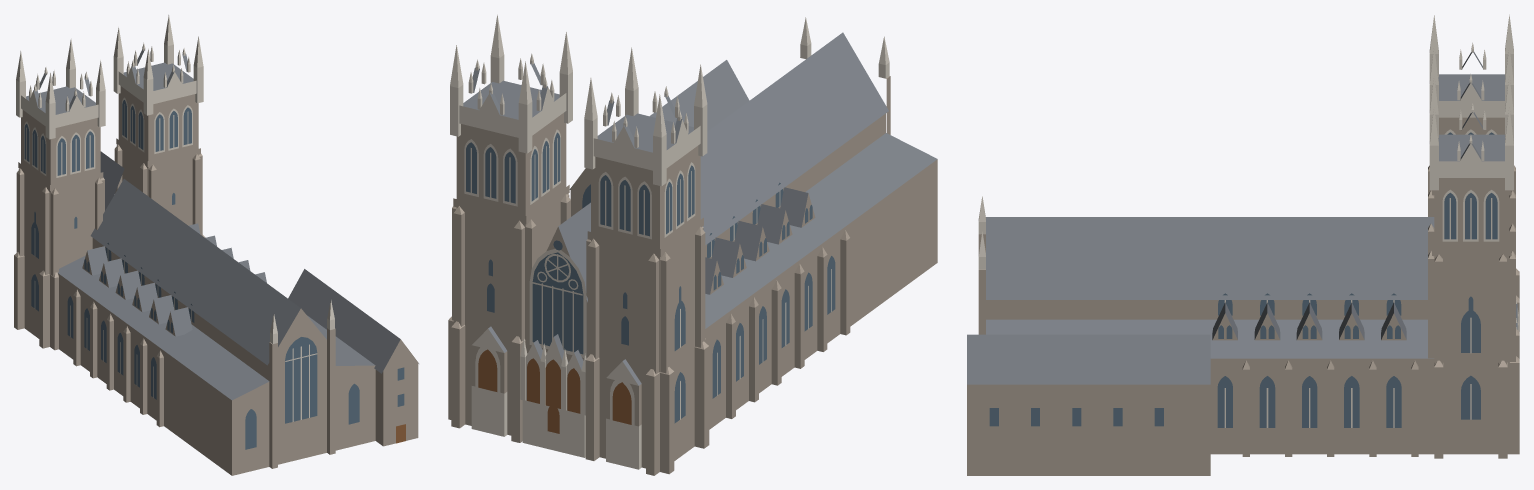
Rendered from pit-first-presbyterian-church.glb.
3 views of the same model, side by side, from view 1: azimuth 30°, elevation 25°; view 2: azimuth 150°, elevation 25°; view 3: azimuth 270°, elevation 25° (orthographic). The views are drawn at different scales.
Visible parts, largest first — view 1: First Presbyterian Church of Pittsburgh; view 2: First Presbyterian Church of Pittsburgh; view 3: First Presbyterian Church of Pittsburgh.
Boxes of the visible parts, x1,y1,x2,y2 form: First Presbyterian Church of Pittsburgh: (14, 15, 418, 475); First Presbyterian Church of Pittsburgh: (448, 14, 937, 475); First Presbyterian Church of Pittsburgh: (967, 14, 1519, 475).
Bounding box in the file's own units: 30.55 × 42 × 60.34.
